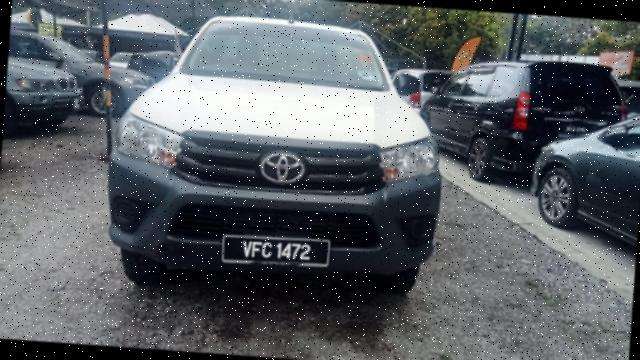License_Plate: (224, 236, 329, 267)
car: (94, 4, 454, 296)
